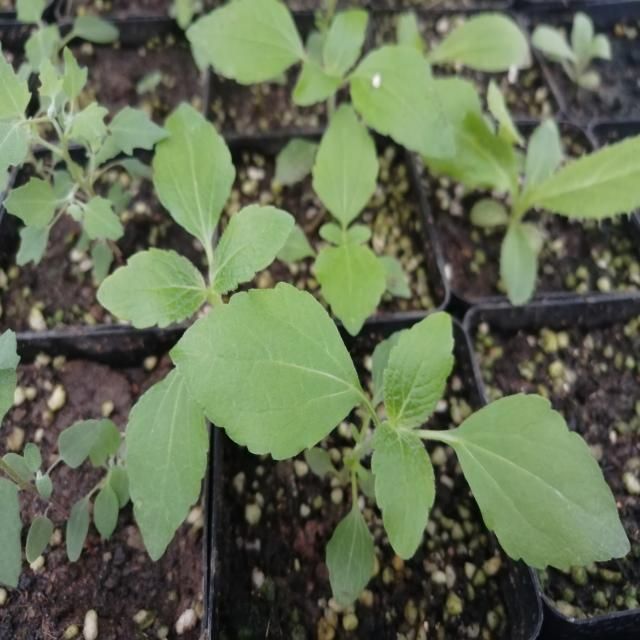billygoat_weed: (216, 274, 639, 596), (140, 102, 298, 560), (206, 0, 434, 181), (304, 108, 394, 344)
